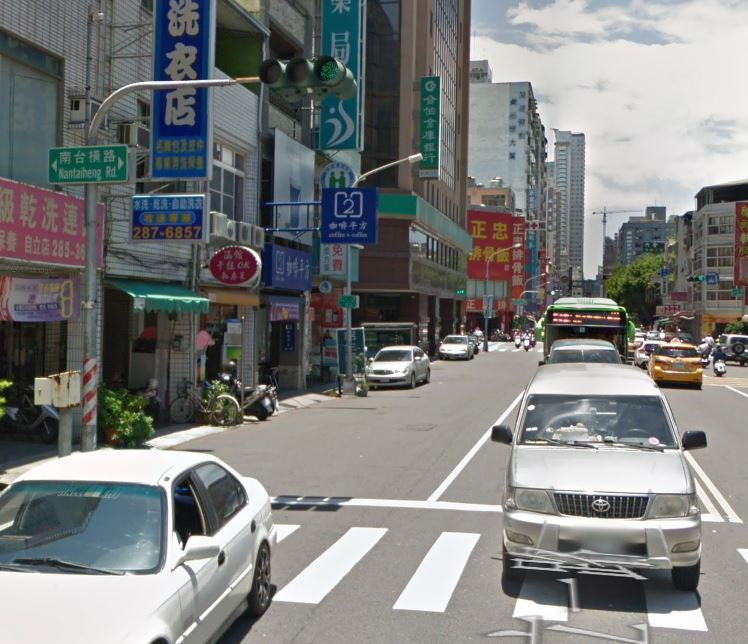Traffic_light_green: (257, 56, 363, 106)
car: (492, 356, 713, 593), (357, 337, 434, 394)
